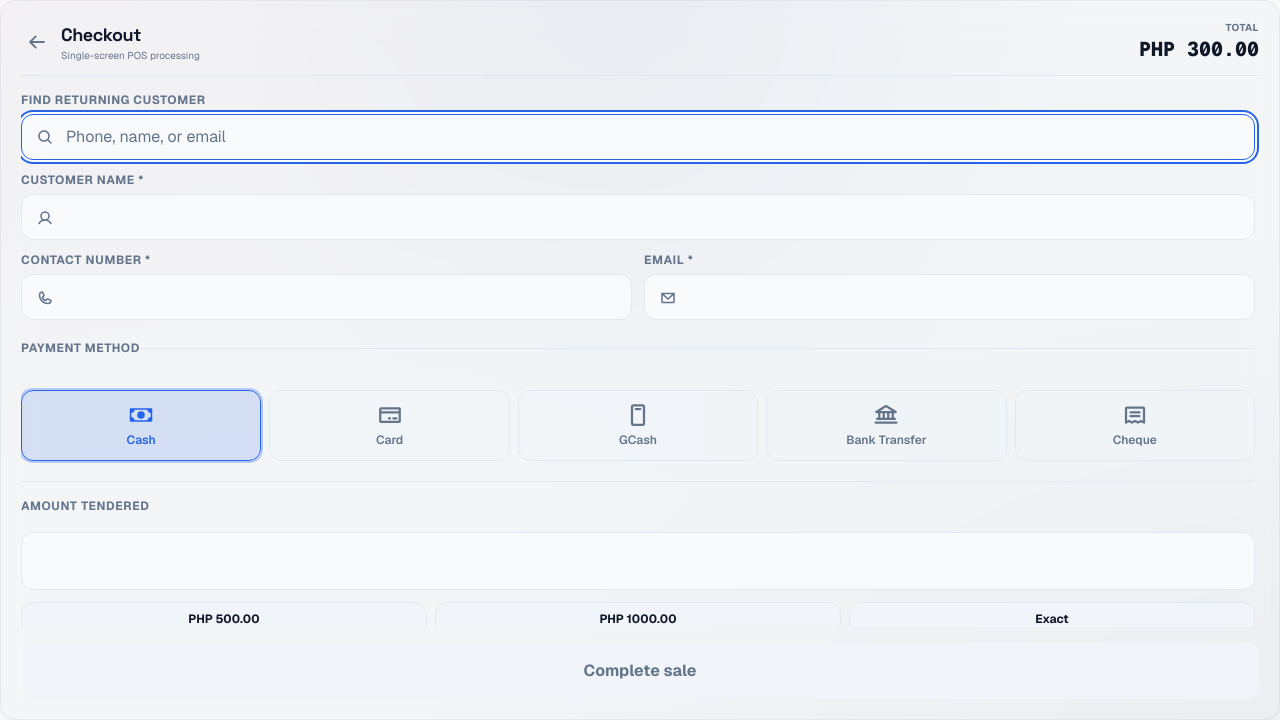
Test: PosCheckoutPane › labels a quick-tender button with the amount it actually sets
This screenshot has width=1280, height=720.
Step 1. Type "Juan Cruz" into the field labelled "Customer name *" → (638, 217), box [21,194,1255,240]
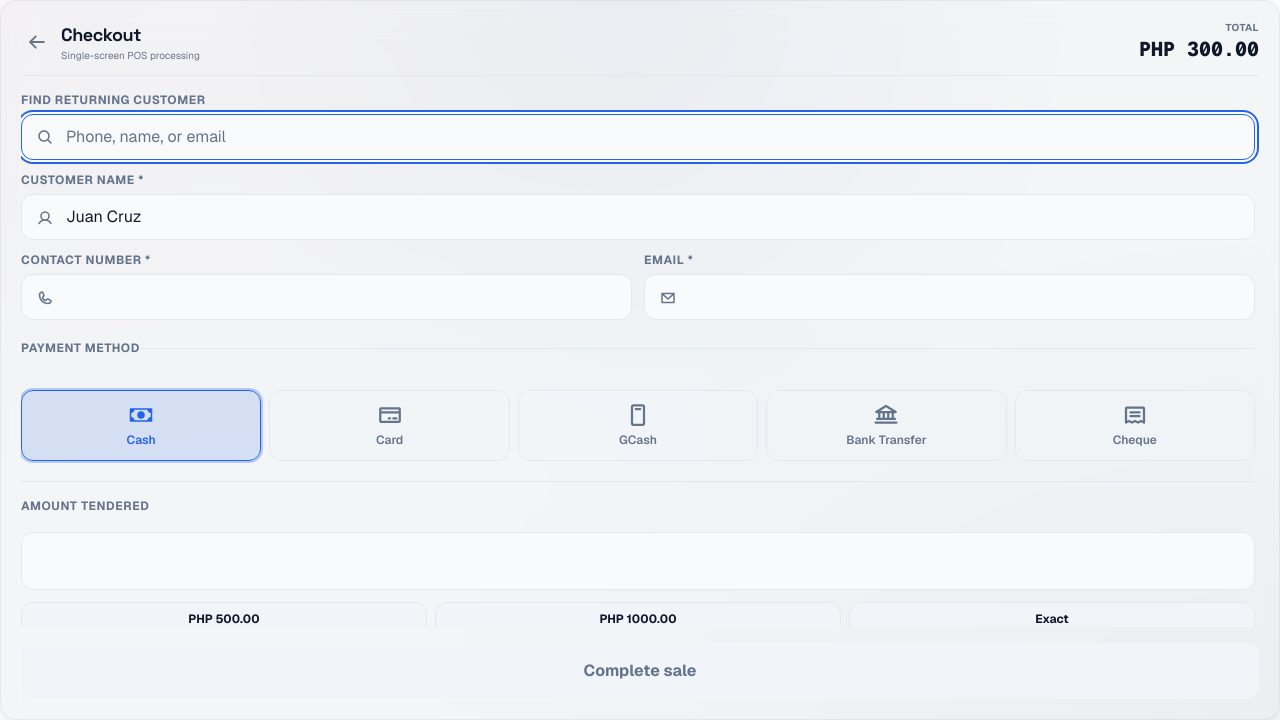
Step 2. Type "09171234567" into the field labelled "Contact number *" → (326, 297), box [21,274,632,320]
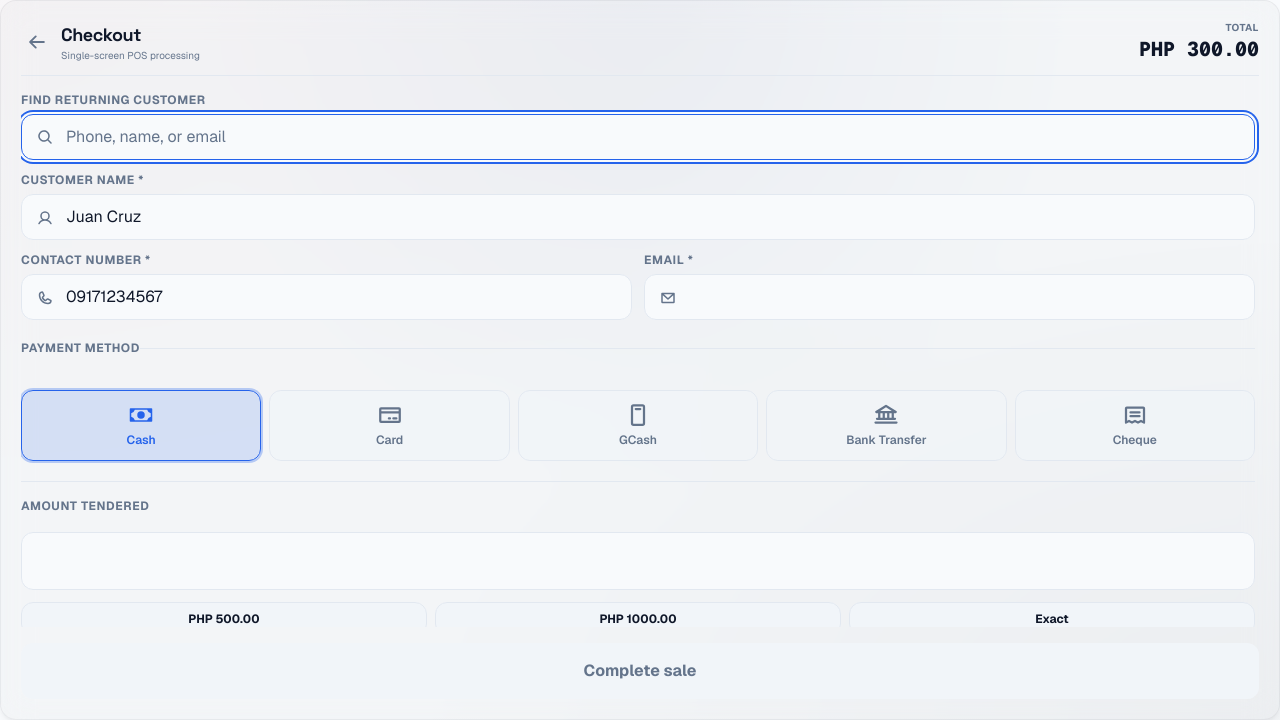
Step 3. Type "juan@example.com" into the field labelled "Email *" → (950, 297), box [644,274,1255,320]
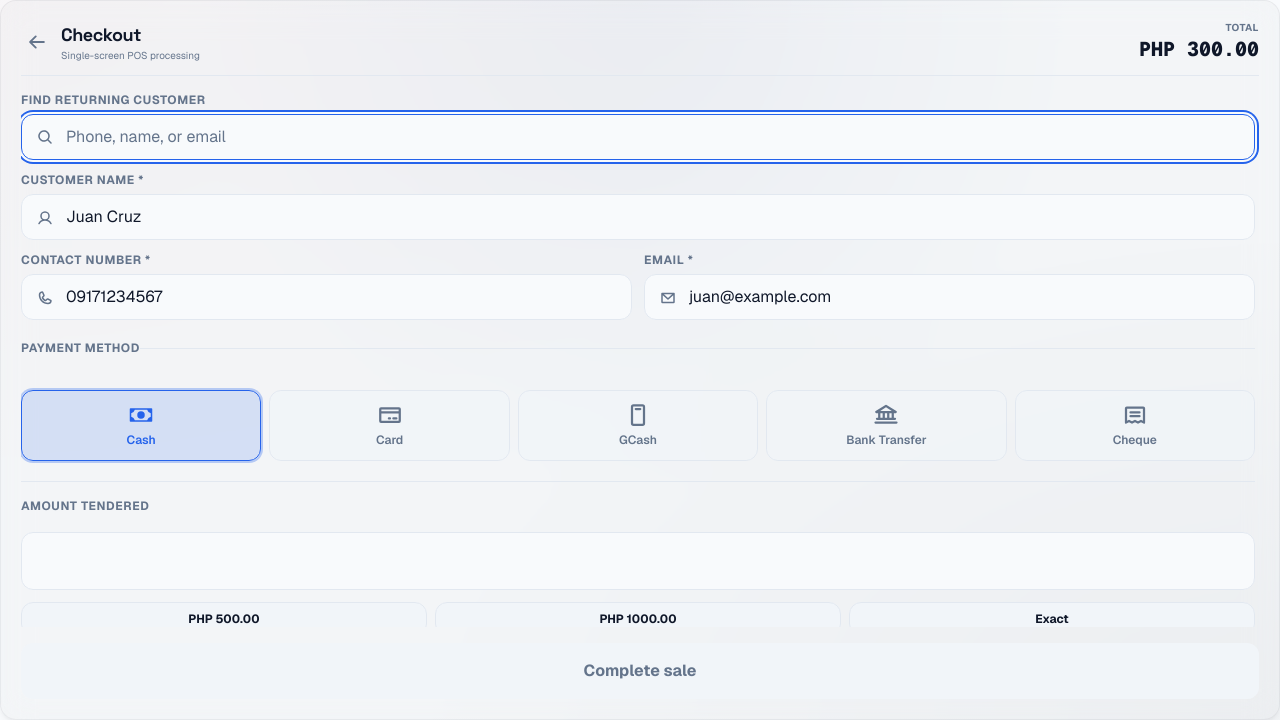
Step 4. Click the button "PHP 500.00" → (224, 619), box [21,602,427,636]
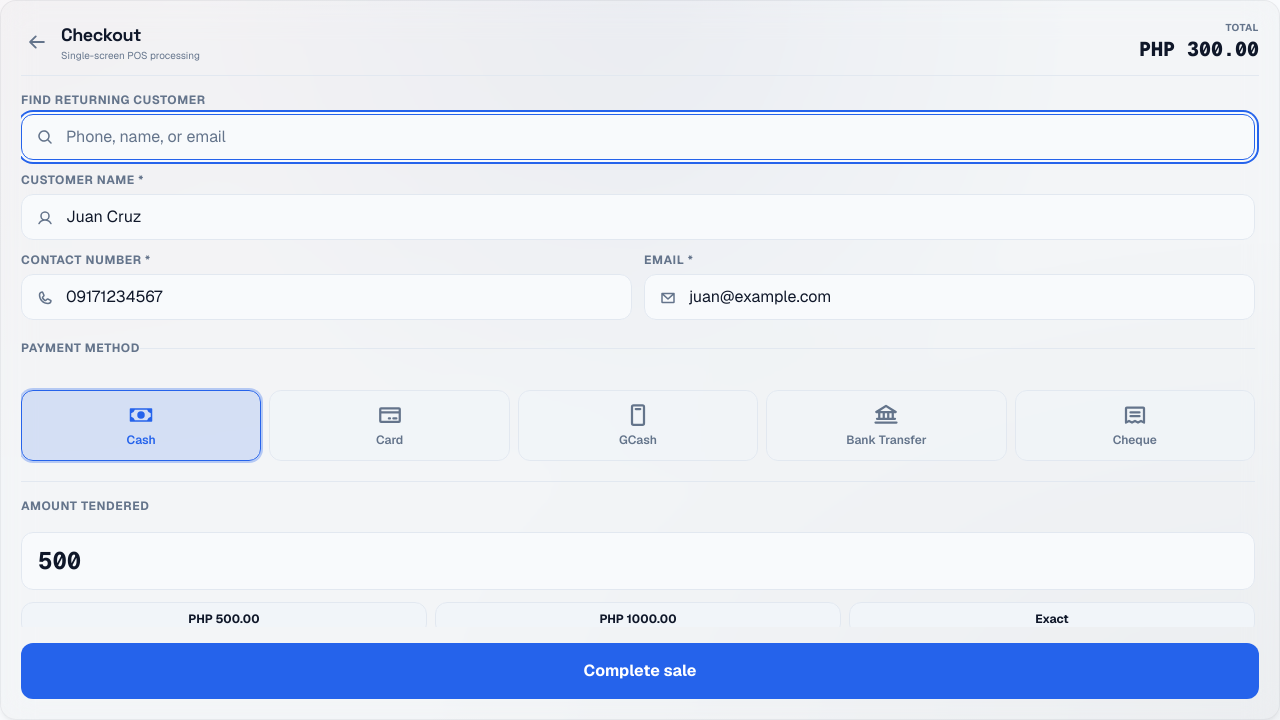
Check: the number field labelled "Amount Tendered" holds "500", box [21,532,1255,590]
